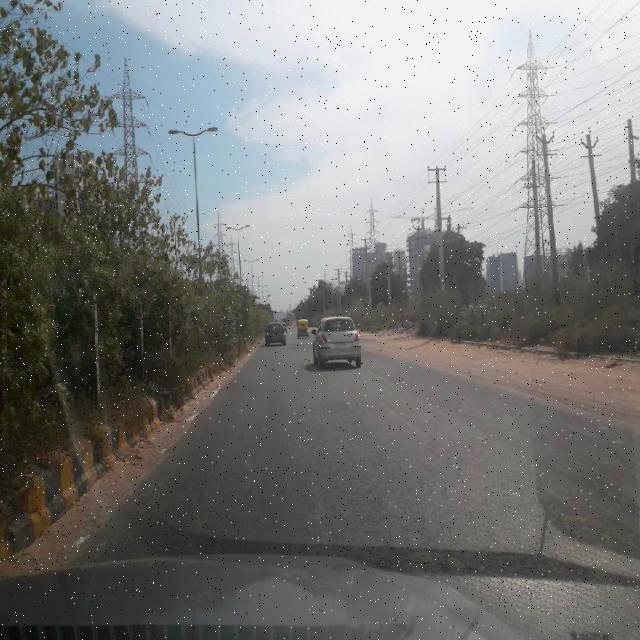D20: (104, 386, 640, 554)
